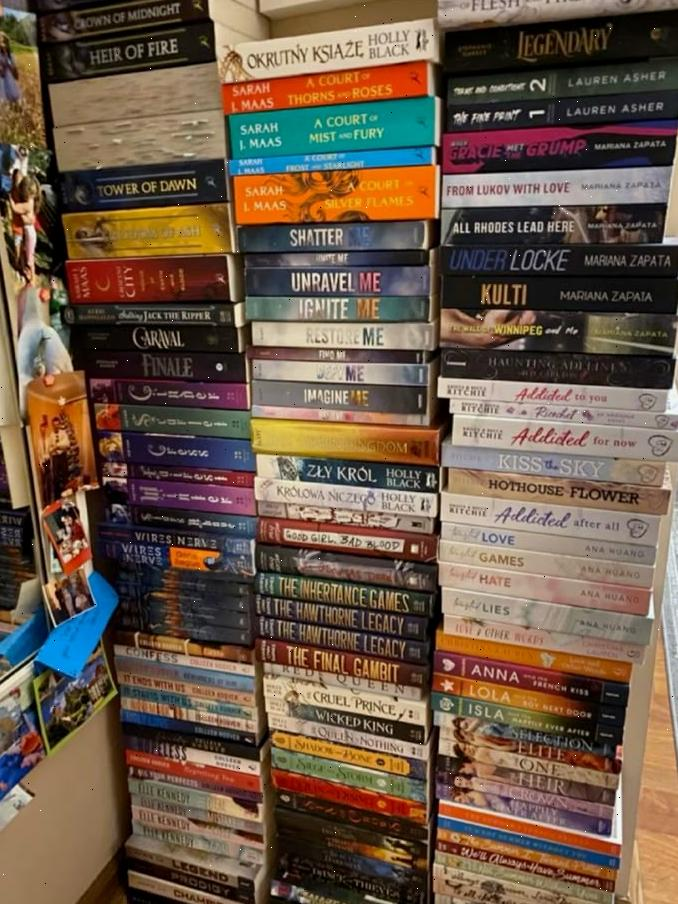book: (441, 6, 678, 72), (437, 489, 671, 551), (432, 800, 620, 874), (434, 585, 653, 648), (439, 120, 678, 177), (226, 96, 441, 158), (441, 88, 678, 144), (223, 62, 440, 123), (431, 627, 644, 687), (437, 164, 678, 211), (436, 440, 677, 486), (44, 21, 220, 81), (439, 375, 678, 417), (440, 203, 678, 245), (254, 566, 438, 620), (439, 274, 678, 315), (227, 146, 440, 191), (441, 239, 678, 279), (54, 158, 232, 209), (255, 515, 439, 562), (252, 453, 446, 496), (124, 747, 267, 804), (251, 380, 440, 421), (237, 220, 437, 255), (252, 355, 442, 391), (244, 266, 437, 301), (78, 348, 250, 386), (108, 432, 259, 475), (85, 375, 252, 413), (68, 321, 248, 356), (248, 320, 441, 352), (64, 300, 244, 332)
